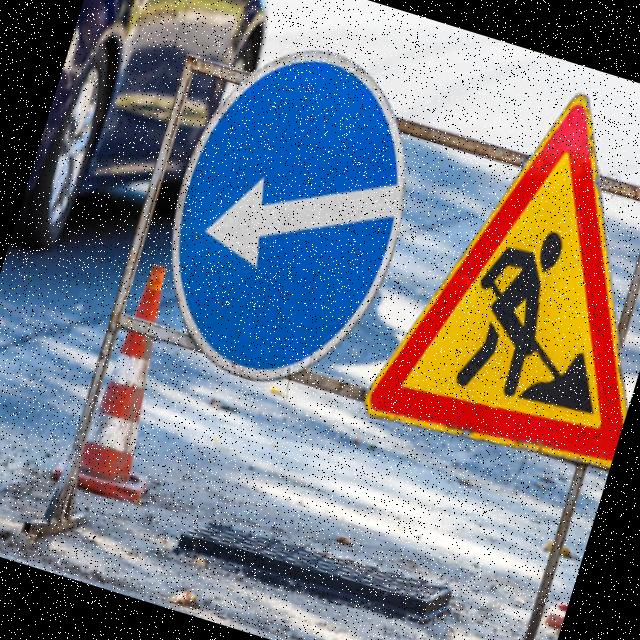road_work: (362, 52, 640, 491)
